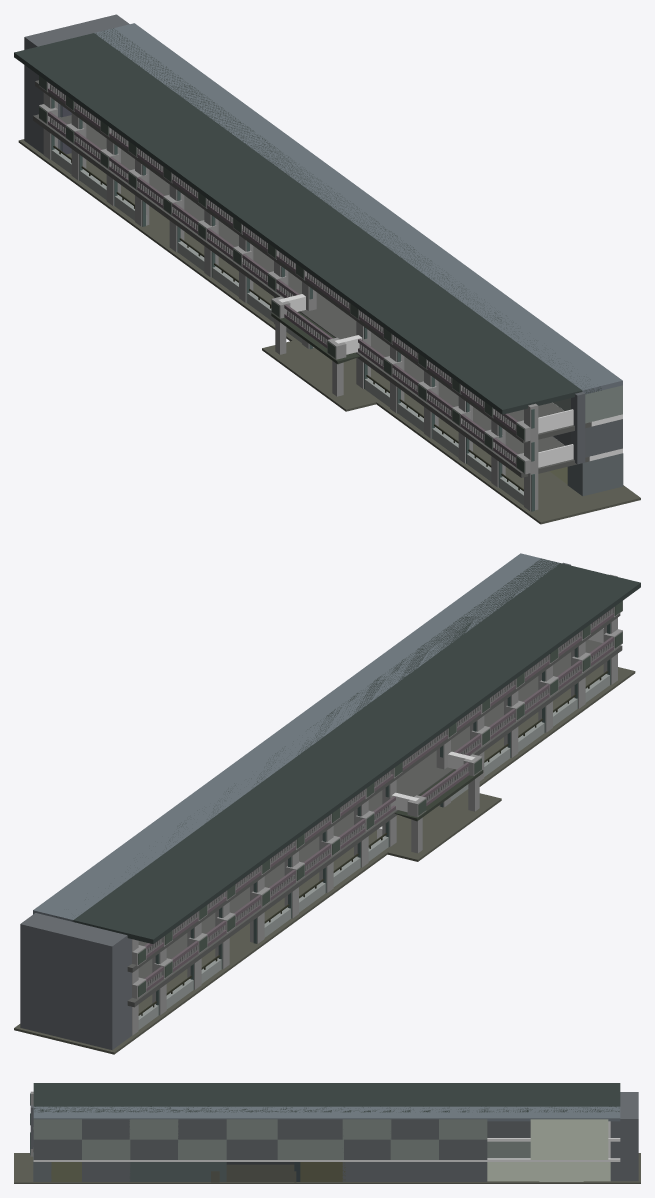
Rendered from gee.fbx.
3 views of the same model, one above another, from view 1: azimuth 30°, elevation 25°; view 2: azimuth 150°, elevation 25°; view 3: azimuth 270°, elevation 25° (orthographic). The views are drawn at different scales.
Visible parts, largest first — view 1: Cube.361, Cube.360, Cube.345, Cube, Cube.065, Cube.070, Cone.017, Cube.100, Cube.368, Cube.367, Cube.359, Cube.325 (+7 smaller); view 2: Cube.361, Cube.360, Cube.359, Cube.345, Cube, Cube.065, Cube.070, Cone.017, Cube.100, Cube.368, Cube.367, Cube.325 (+3 smaller); view 3: Cube.361, Cube.387, Cube.388, Cube.360, Cube.018, Cube.015, Cube.359, Cube, Cube.148, Cube.002, Cube.014, Cube.022 (+6 smaller).
Boxes of the visible parts, x1=… form: Cube.361: x1=14, y1=28, x2=601, y2=414; Cube.360: x1=94, y1=23, x2=622, y2=394; Cube.345: x1=33, y1=80, x2=591, y2=477; Cube: x1=18, y1=139, x2=640, y2=524; Cube.065: x1=43, y1=92, x2=538, y2=511; Cube.070: x1=48, y1=82, x2=518, y2=466; Cone.017: x1=50, y1=84, x2=516, y2=463; Cube.100: x1=51, y1=148, x2=523, y2=505; Cube.368: x1=39, y1=81, x2=530, y2=474; Cube.367: x1=39, y1=76, x2=524, y2=472; Cube.359: x1=24, y1=14, x2=129, y2=154; Cube.325: x1=262, y1=341, x2=376, y2=411; Cube.361: x1=55, y1=558, x2=640, y2=944; Cube.360: x1=33, y1=553, x2=559, y2=921; Cube.359: x1=20, y1=913, x2=131, y2=1049; Cube.345: x1=127, y1=613, x2=622, y2=1007; Cube: x1=14, y1=664, x2=635, y2=1054; Cube.065: x1=132, y1=574, x2=617, y2=1035; Cube.070: x1=144, y1=607, x2=613, y2=991; Cone.017: x1=146, y1=609, x2=612, y2=987; Cube.100: x1=138, y1=674, x2=609, y2=1029; Cube.368: x1=132, y1=601, x2=622, y2=998; Cube.367: x1=138, y1=601, x2=622, y2=997; Cube.325: x1=387, y1=793, x2=501, y2=861; Cube.361: x1=33, y1=1083, x2=620, y2=1112; Cube.387: x1=33, y1=1119, x2=530, y2=1159; Cube.388: x1=33, y1=1119, x2=530, y2=1159; Cube.360: x1=33, y1=1106, x2=620, y2=1121; Cube.018: x1=487, y1=1119, x2=610, y2=1181; Cube.015: x1=342, y1=1162, x2=487, y2=1181; Cube.359: x1=610, y1=1092, x2=638, y2=1181; Cube: x1=14, y1=1153, x2=640, y2=1183; Cube.148: x1=129, y1=1162, x2=226, y2=1181; Cube.002: x1=211, y1=1162, x2=300, y2=1182; Cube.014: x1=33, y1=1158, x2=620, y2=1161; Cube.022: x1=82, y1=1162, x2=130, y2=1181.
Bounding box in the file's own units: 2612 × 2065 × 18046.
